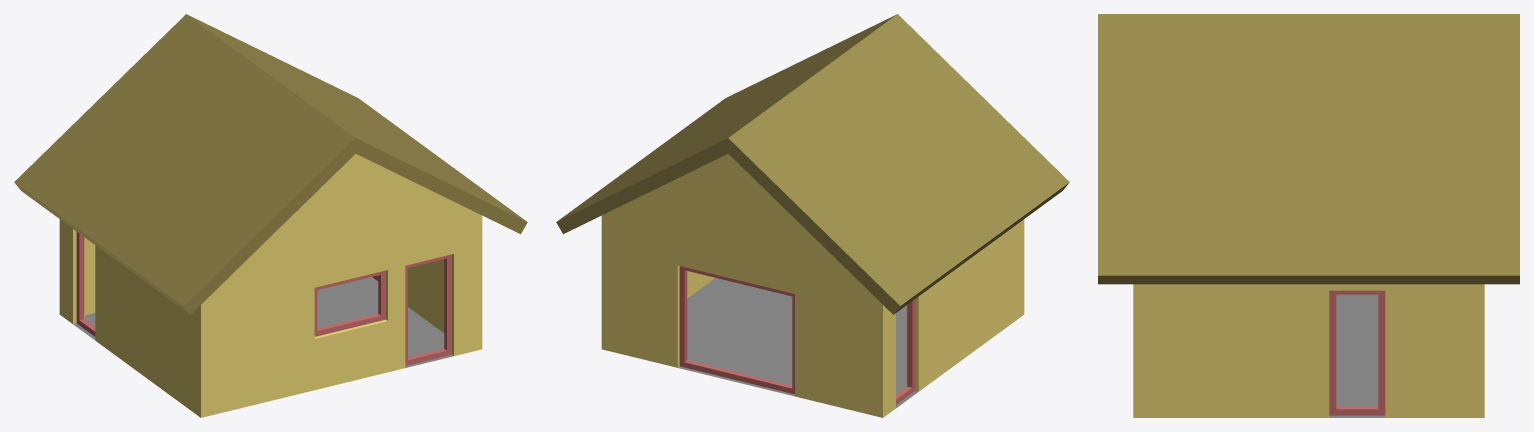
File: result.glb
3 views of the same model, side by side, from view 1: azimuth 30°, elevation 25°; view 2: azimuth 150°, elevation 25°; view 3: azimuth 270°, elevation 25° (orthographic). The views are drawn at different scales.
Parts seen in each view (by area): view 1: 6752a60c-456c-459f-b566-c98af9cefdad__undefined (×2), ef1befe8-a6a2-4510-9248-58166b59cf32__undefined, df6683d4-28bd-48b2-8c53-db61b030908e__Plane_6, a8d92464-4af5-456d-920e-e021d201afc3__Box, 91ef52d4-3625-4ff2-bf4a-532f89e2348e__Box_3, e5a0c37c-d86a-43d0-ad0c-cf369baa67f3__Box_12; view 2: 6752a60c-456c-459f-b566-c98af9cefdad__undefined (×2), ef1befe8-a6a2-4510-9248-58166b59cf32__undefined, df6683d4-28bd-48b2-8c53-db61b030908e__Plane_6, b9037788-672c-41cc-8da5-04c339acbbbd__Box_9, e5a0c37c-d86a-43d0-ad0c-cf369baa67f3__Box_12; view 3: 6752a60c-456c-459f-b566-c98af9cefdad__undefined, ef1befe8-a6a2-4510-9248-58166b59cf32__undefined, df6683d4-28bd-48b2-8c53-db61b030908e__Plane_6, 3d8330e9-f50a-415f-98cb-3d26a69ceffe__Box_15.
Boxes of the visible parts, left/top/right/bottom form: 6752a60c-456c-459f-b566-c98af9cefdad__undefined (×2): left=14, top=14, right=527, bottom=314; ef1befe8-a6a2-4510-9248-58166b59cf32__undefined: left=59, top=154, right=482, bottom=417; df6683d4-28bd-48b2-8c53-db61b030908e__Plane_6: left=73, top=277, right=453, bottom=367; a8d92464-4af5-456d-920e-e021d201afc3__Box: left=405, top=254, right=451, bottom=365; 91ef52d4-3625-4ff2-bf4a-532f89e2348e__Box_3: left=314, top=270, right=385, bottom=336; e5a0c37c-d86a-43d0-ad0c-cf369baa67f3__Box_12: left=76, top=232, right=95, bottom=336; 6752a60c-456c-459f-b566-c98af9cefdad__undefined (×2): left=556, top=14, right=1069, bottom=314; ef1befe8-a6a2-4510-9248-58166b59cf32__undefined: left=601, top=154, right=1024, bottom=417; df6683d4-28bd-48b2-8c53-db61b030908e__Plane_6: left=678, top=278, right=918, bottom=407; b9037788-672c-41cc-8da5-04c339acbbbd__Box_9: left=679, top=266, right=794, bottom=394; e5a0c37c-d86a-43d0-ad0c-cf369baa67f3__Box_12: left=896, top=299, right=914, bottom=404; 6752a60c-456c-459f-b566-c98af9cefdad__undefined: left=1098, top=14, right=1519, bottom=284; ef1befe8-a6a2-4510-9248-58166b59cf32__undefined: left=1133, top=284, right=1484, bottom=417; df6683d4-28bd-48b2-8c53-db61b030908e__Plane_6: left=1329, top=294, right=1385, bottom=417; 3d8330e9-f50a-415f-98cb-3d26a69ceffe__Box_15: left=1329, top=290, right=1385, bottom=415.
Bounding box in the file's own units: 704 × 500 × 600.
